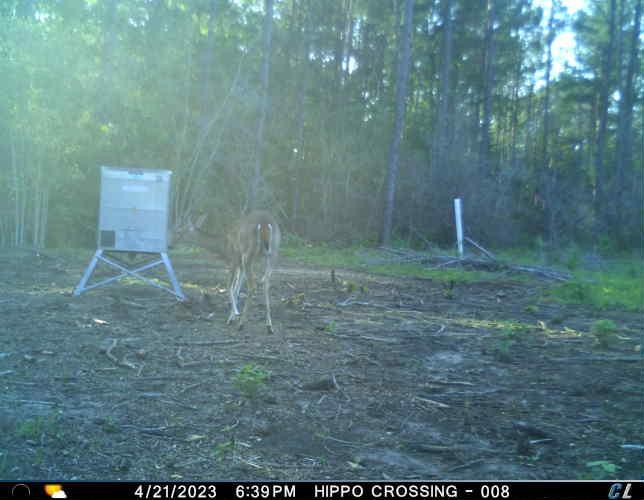Deer: (165, 204, 286, 336)
